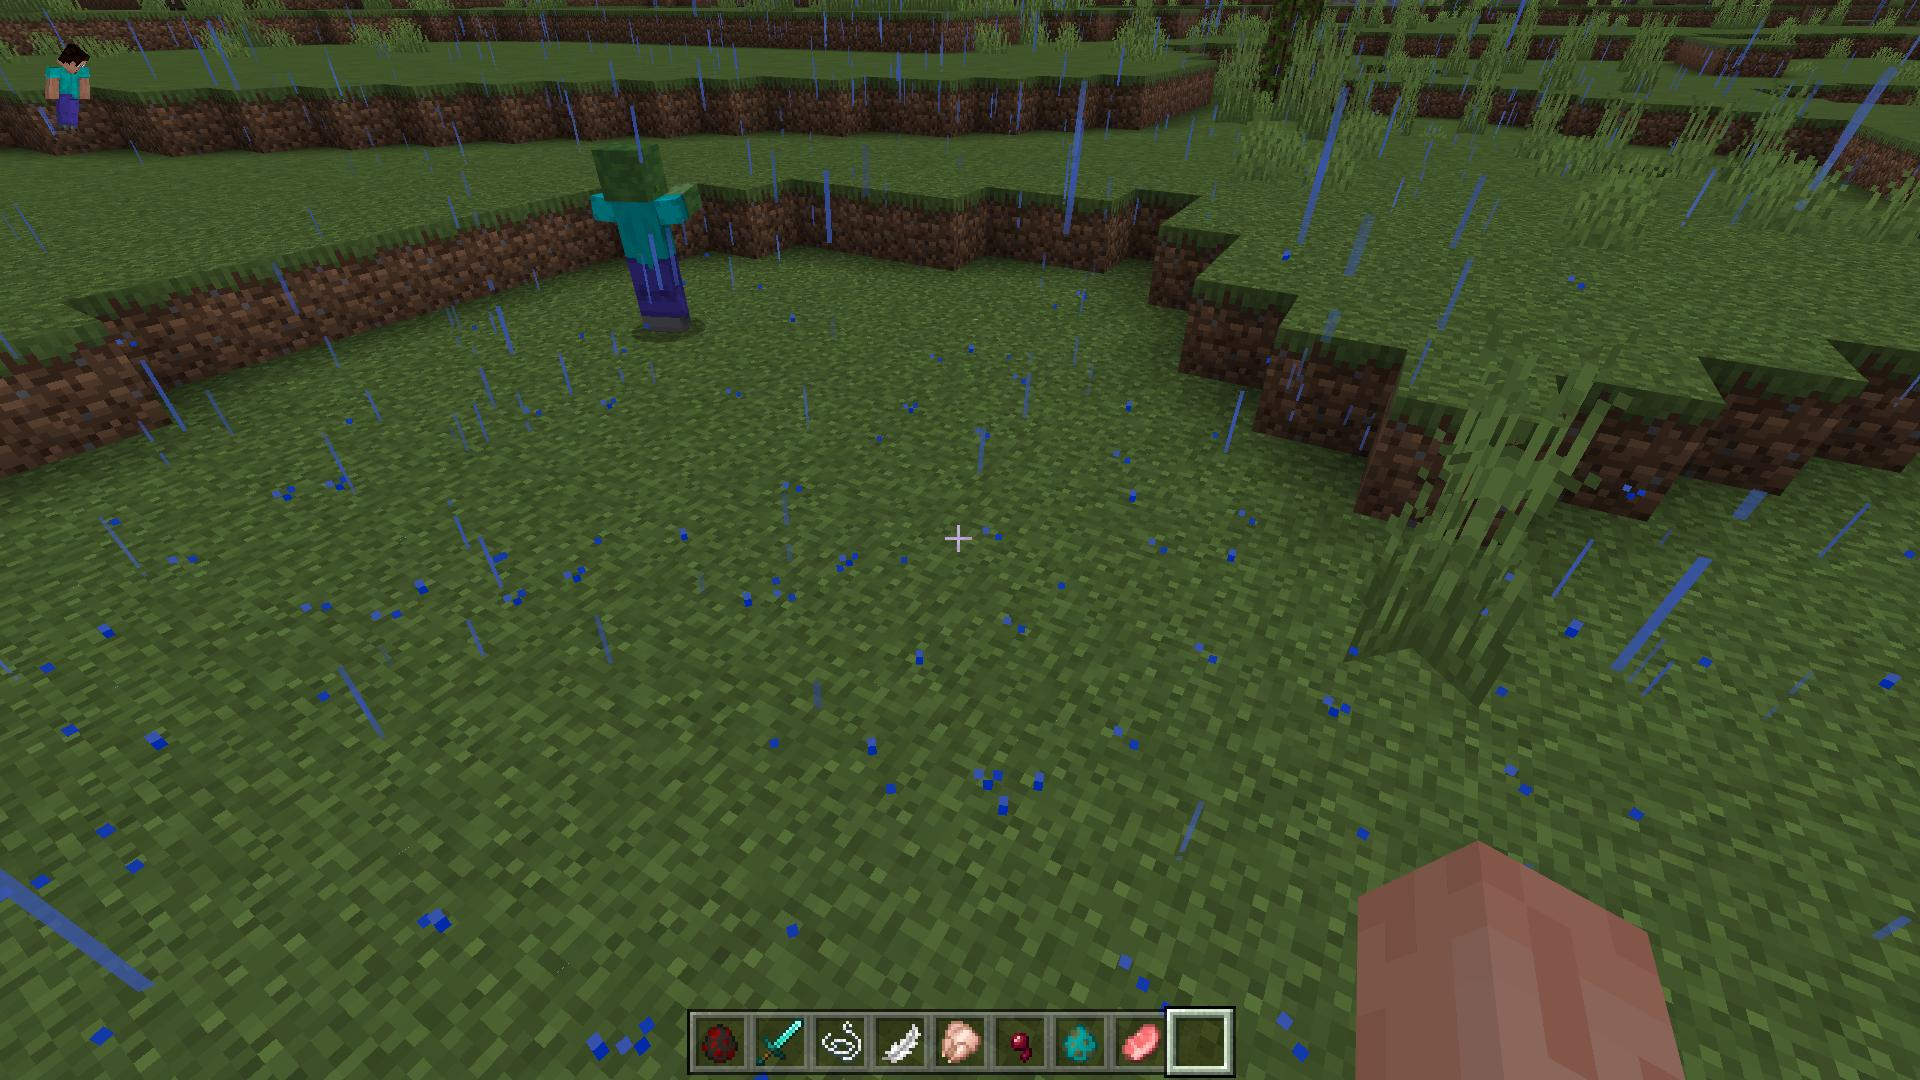zombie: (587, 135, 703, 340)
